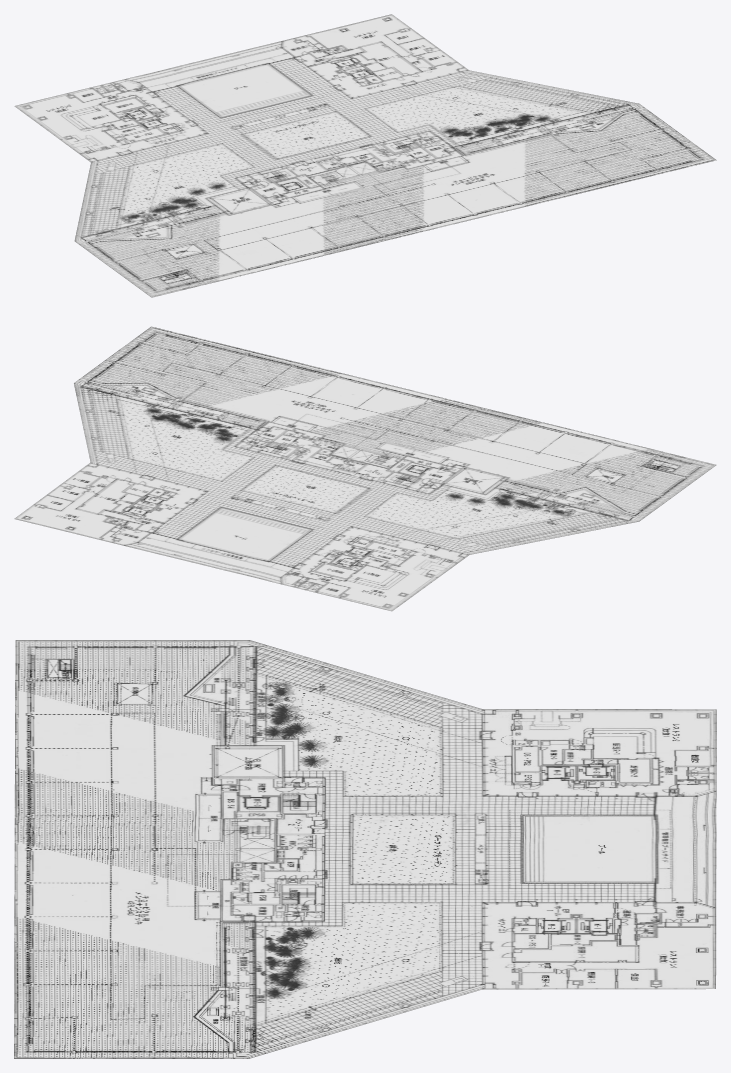
Rendered from 49F_drawing.fbx.
3 views of the same model, one above another, from view 1: azimuth 30°, elevation 25°; view 2: azimuth 150°, elevation 25°; view 3: azimuth 270°, elevation 25° (orthographic). The views are drawn at different scales.
Visible parts, largest first — view 1: Plane.001; view 2: Plane.001; view 3: Plane.001.
Boxes of the visible parts, x1=… form: Plane.001: x1=14, y1=14, x2=716, y2=297; Plane.001: x1=14, y1=326, x2=716, y2=611; Plane.001: x1=14, y1=640, x2=716, y2=1058.
Bounding box in the file's own units: 8790 × 0.00102 × 6236.
1 material, 1 textured.
